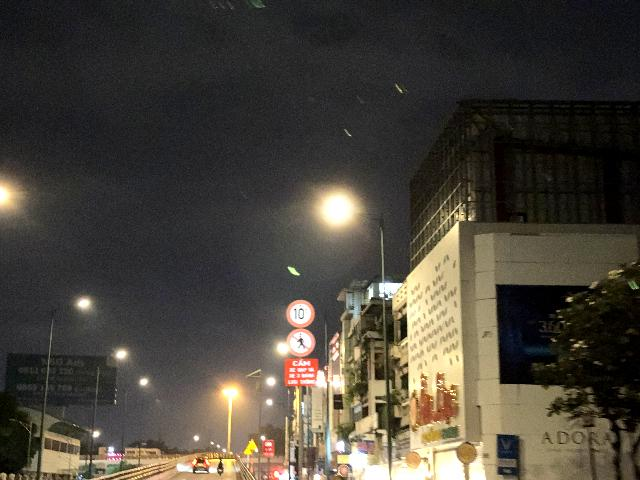cam-nguoi-di-bo: (287, 328, 315, 357)
han-che-trong-luong-xe: (286, 299, 314, 328)
